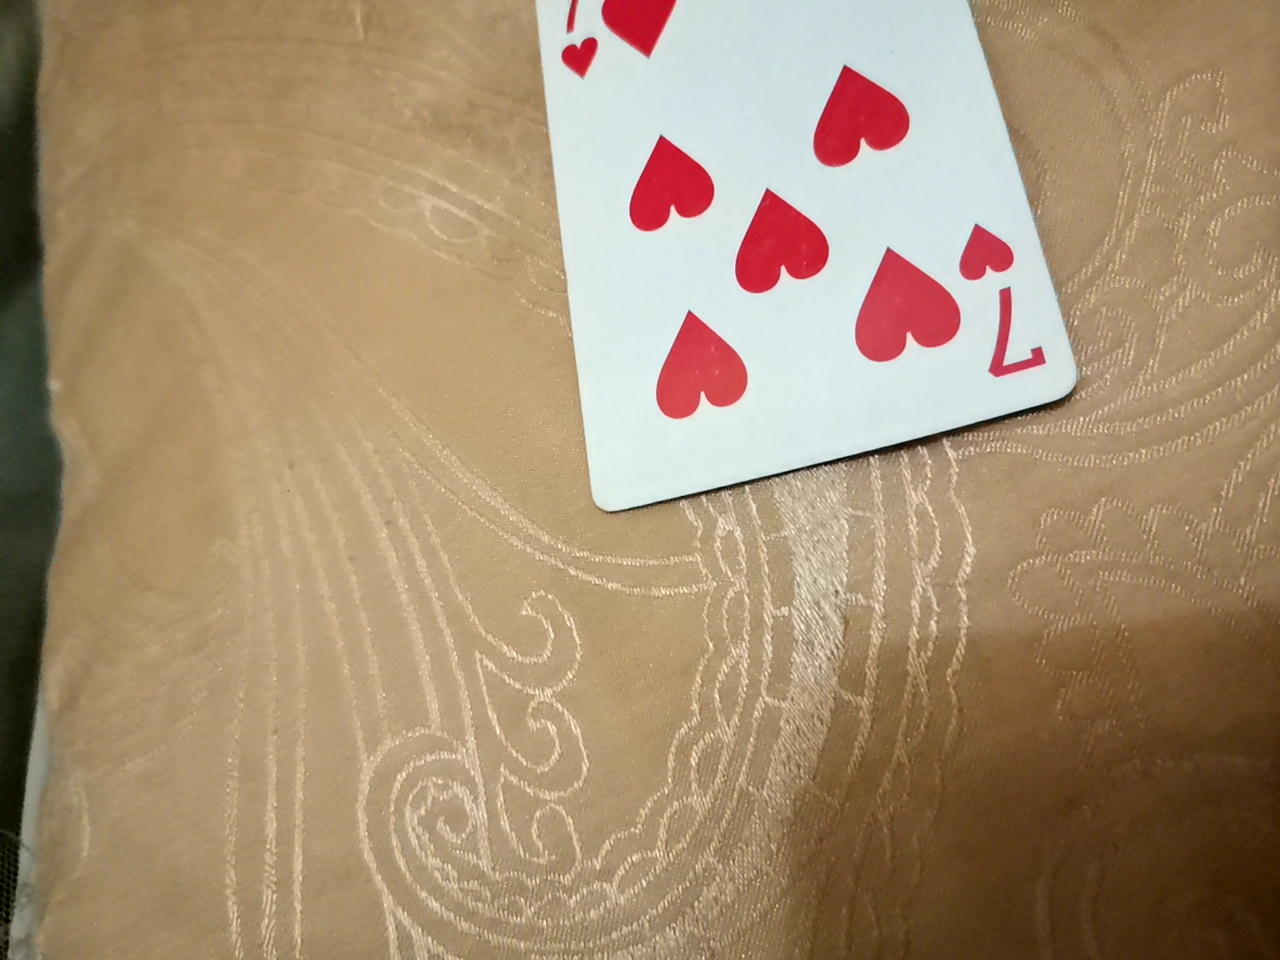hx 7: (526, 0, 1057, 515)
